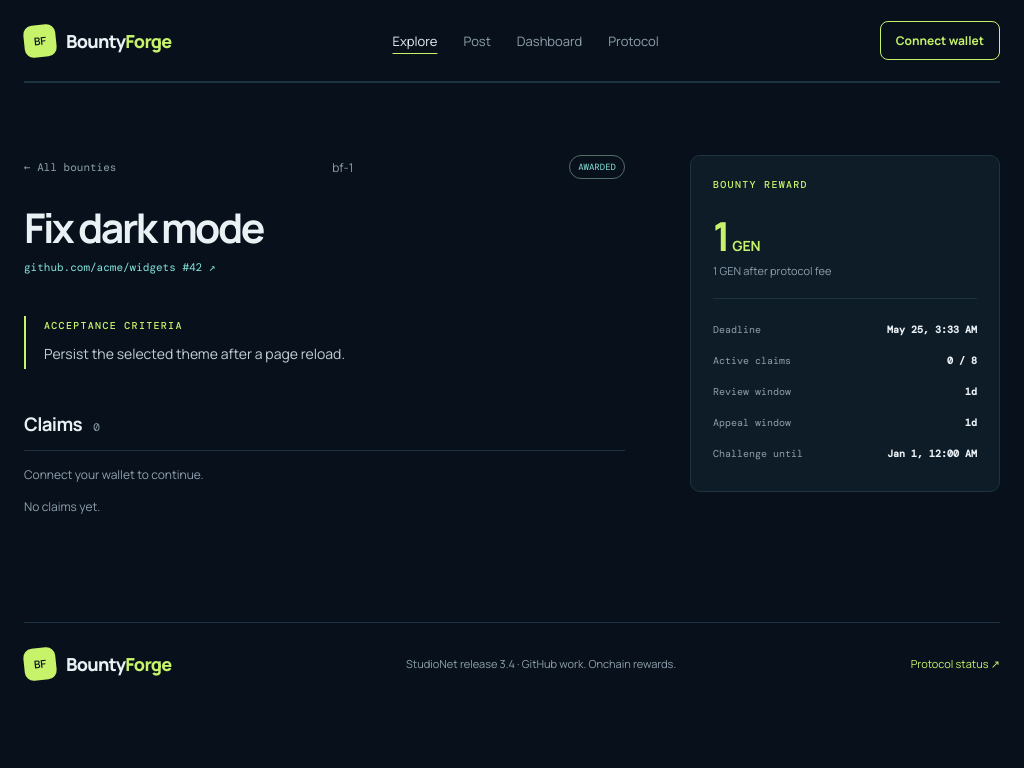
Scenario: forms retain drafts and enforce policy › keeps failed challenges open and limits the statement to 600 characters
Click the button "Connect wallet" at (940, 40), box [880, 21, 1000, 60]
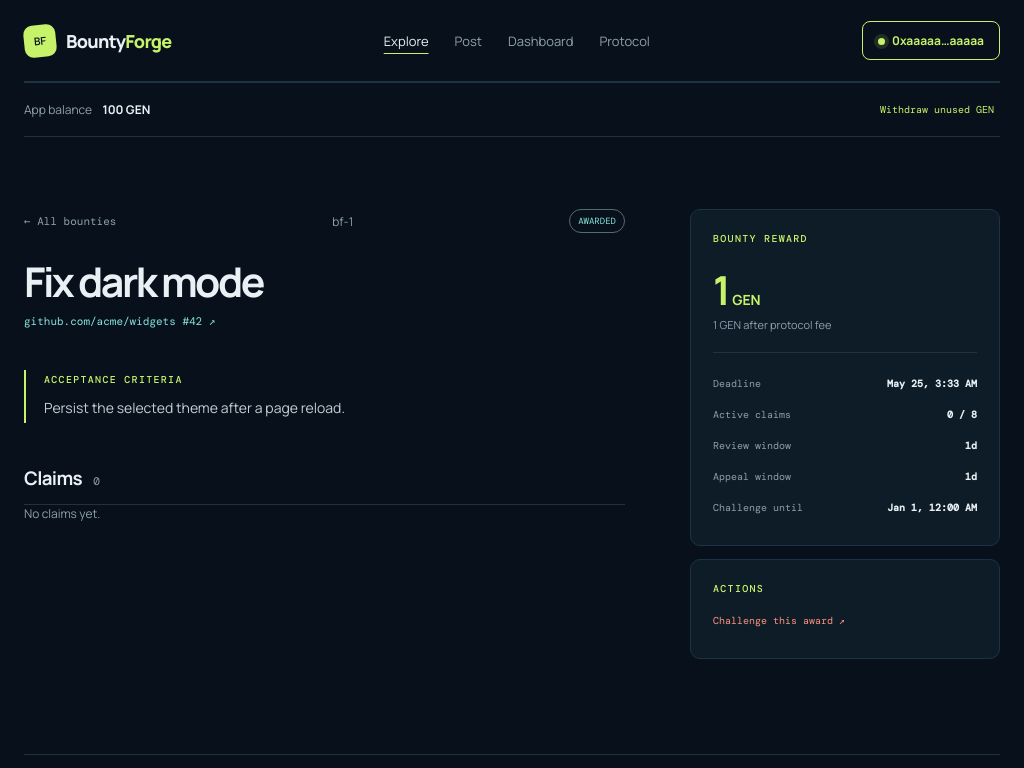
Check: the button with aria-label "Disconnect wallet" is shown, box [862, 21, 1000, 60]
Click the button "Challenge this award ↗" at (779, 620), box [713, 605, 845, 636]
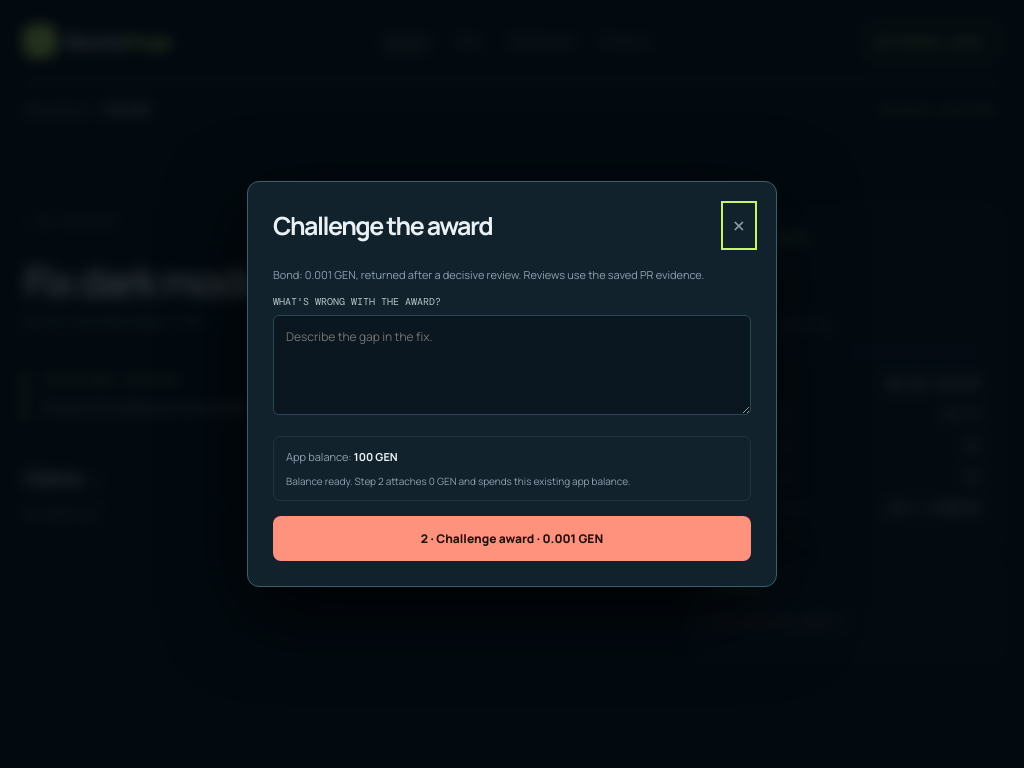
Type "The saved diff does not implement persistence." into the text box labelled "What's wrong with the award?" at (512, 365), box [273, 315, 751, 415]
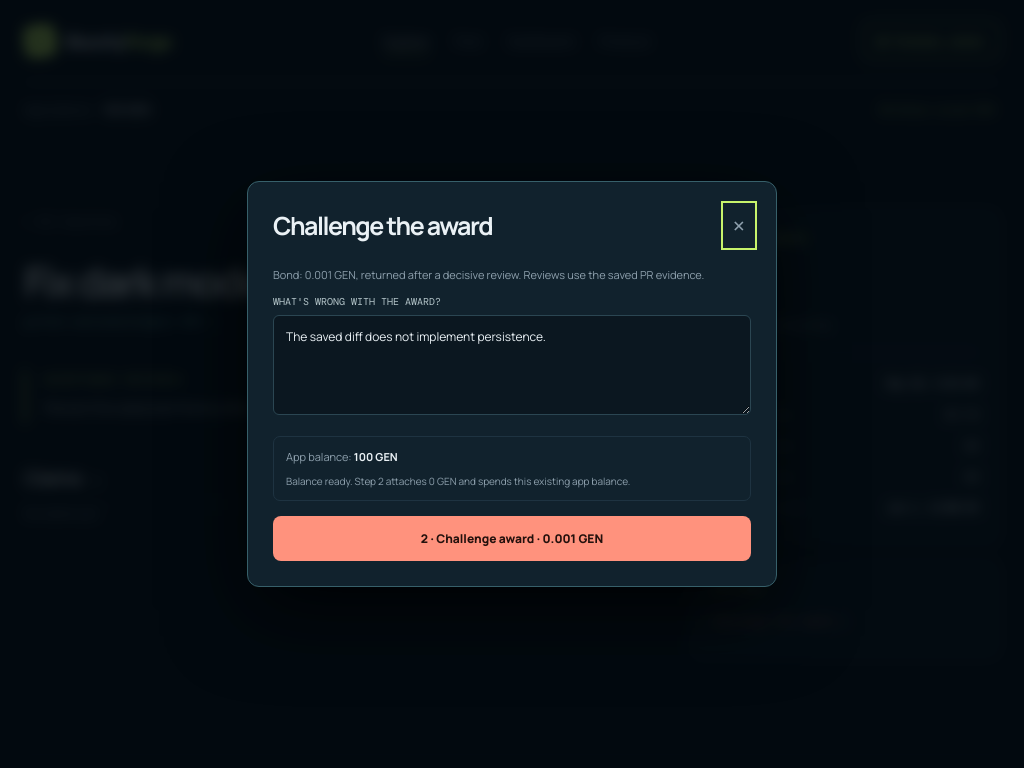
Submit the form, box [273, 266, 751, 561]
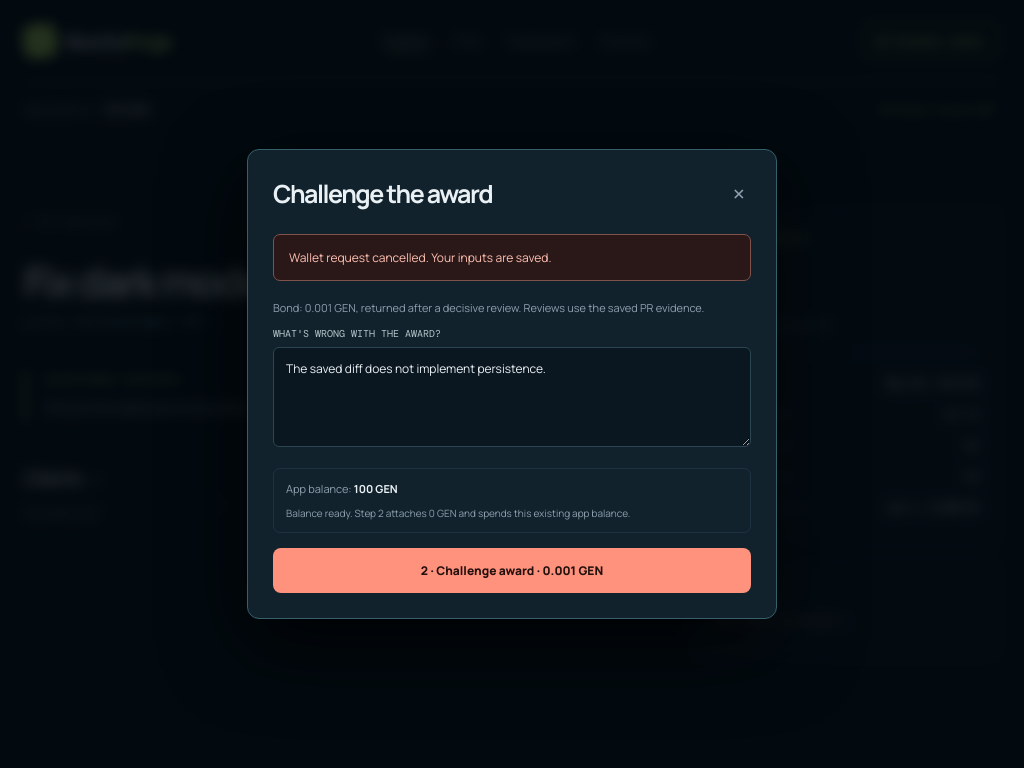
Check: the dialog is shown, box [247, 149, 777, 619]
Check: the message "Wallet request cancelled. Your inputs are saved." is shown, box [273, 234, 751, 281]
